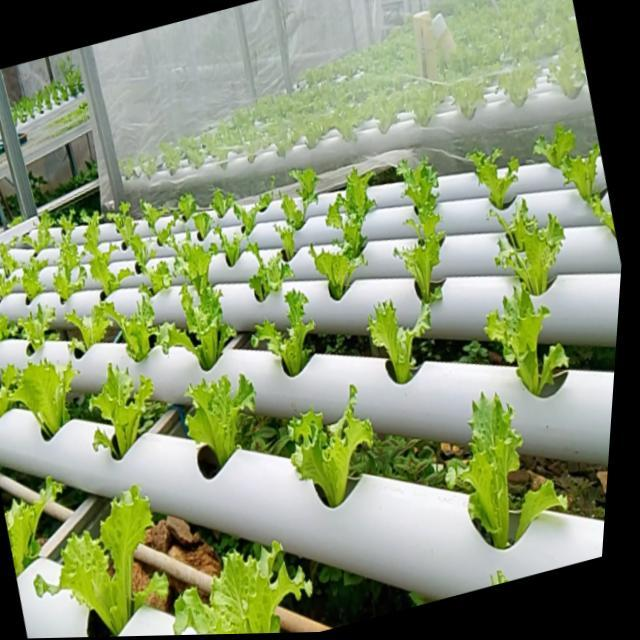Baby: (35, 480, 167, 627), (173, 537, 310, 634), (444, 392, 517, 546), (286, 384, 372, 505), (481, 285, 563, 396), (393, 160, 442, 313), (184, 374, 254, 476), (490, 201, 560, 297), (88, 363, 153, 457), (250, 290, 313, 376), (10, 354, 77, 434), (92, 290, 167, 361), (366, 300, 427, 384), (325, 170, 372, 258), (554, 147, 603, 220), (232, 244, 291, 303), (463, 151, 515, 212), (307, 246, 364, 301), (51, 216, 85, 302), (172, 234, 216, 295), (20, 211, 52, 252), (19, 255, 44, 299), (145, 260, 170, 293), (150, 218, 173, 246), (0, 243, 17, 276)
